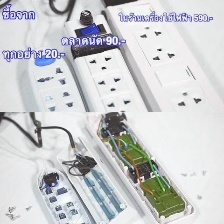three_eye_plug: (78, 101, 201, 224), (102, 0, 224, 112), (57, 6, 161, 112), (52, 136, 157, 224), (23, 42, 96, 112), (31, 161, 99, 224)
